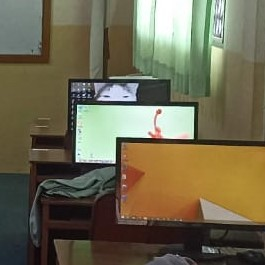monitor: (113, 138, 264, 232), (71, 101, 198, 166), (67, 78, 172, 131)
